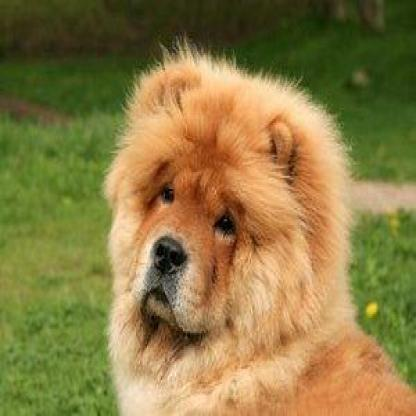chow: (100, 38, 413, 412)
